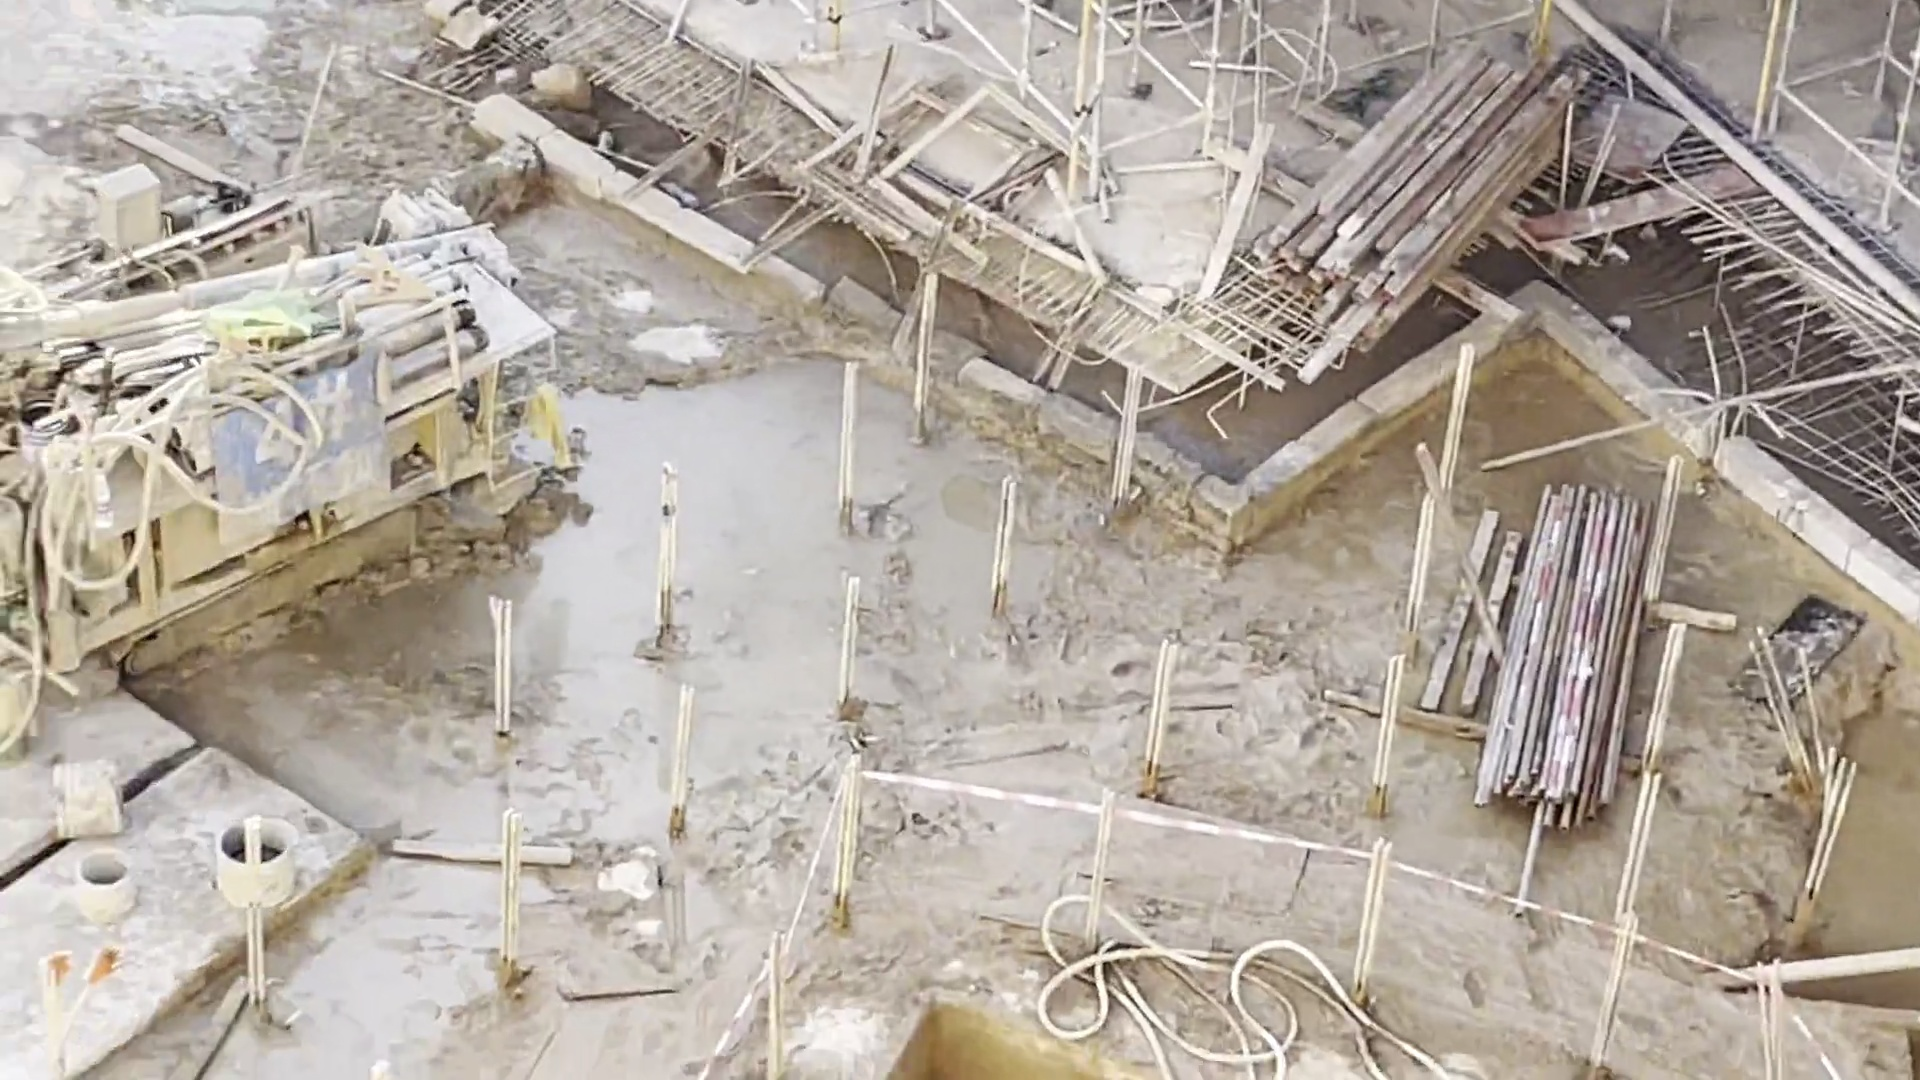wood: (1280, 40, 1544, 326)
